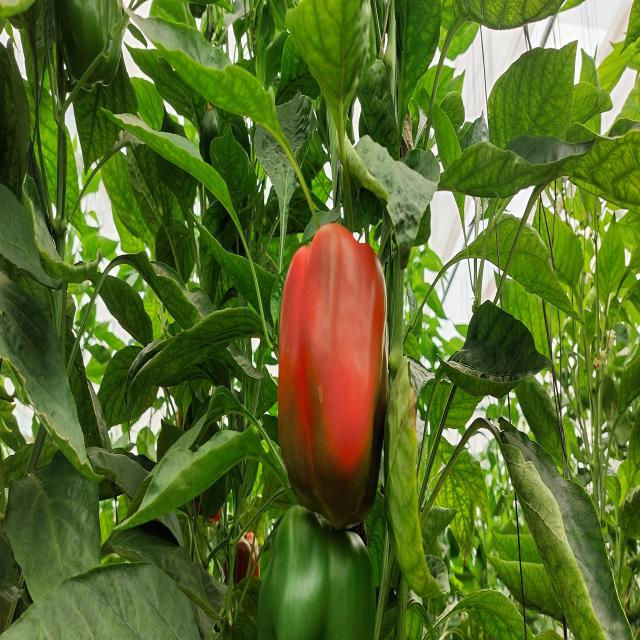Green--Not-ready-to-harvest: (251, 511, 374, 640)
Red-Ready-to-Harvest: (271, 218, 395, 531)
